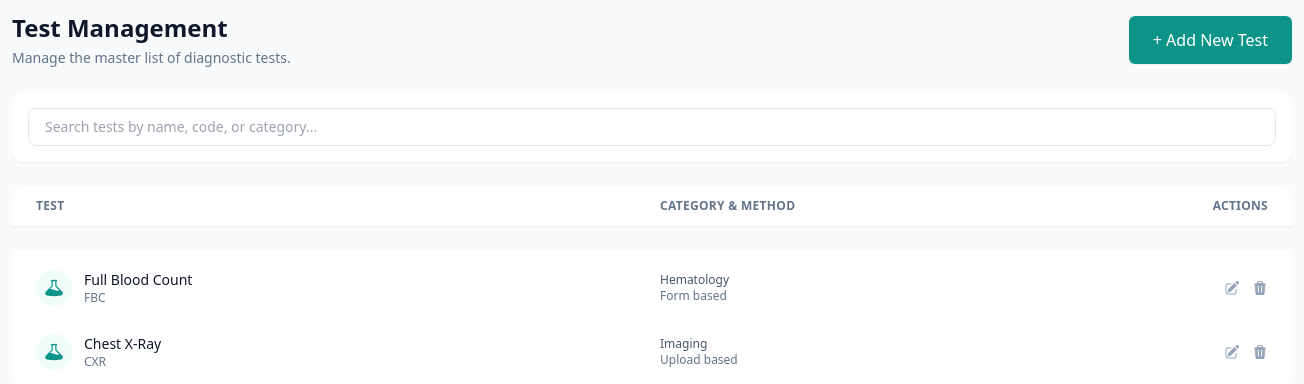
Test: TestManagementPage › filters tests using the search box
Expected: the text "Full Blood Count" is shown, [84, 270, 192, 290]
Expected: the text "Chest X-Ray" is shown, [84, 334, 161, 354]
Type "FBC" into the field with placeholder "Search tests by name, code, or category..." at {"x": 652, "y": 127}, box [28, 108, 1276, 146]
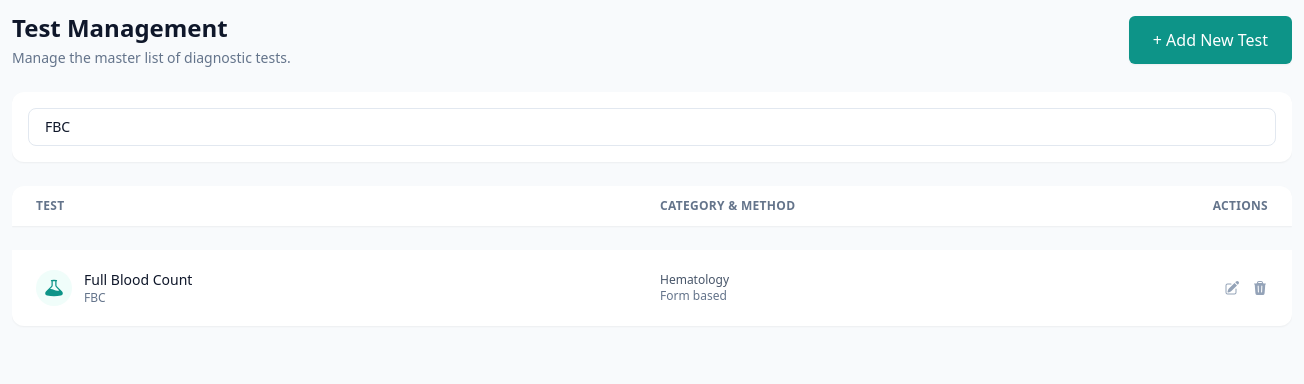
Expected: the text "Full Blood Count" is shown, [84, 270, 192, 290]
Result: the text "Chest X-Ray" is not shown
